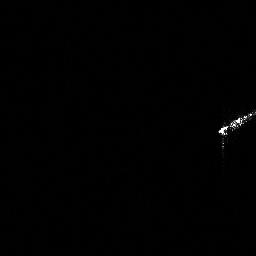ship: (215, 108, 256, 138)
